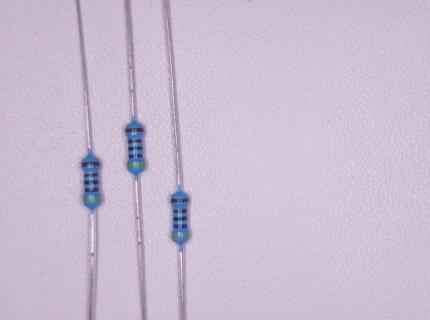Black band: (128, 146, 143, 151), (84, 180, 99, 185), (173, 216, 187, 221)
Brown band: (82, 161, 101, 167), (171, 198, 189, 203), (125, 128, 144, 132), (173, 208, 187, 213), (128, 139, 143, 143), (84, 173, 99, 177)
Violet band: (129, 153, 143, 159), (173, 224, 188, 229), (85, 187, 99, 192)
Yellow band: (172, 234, 189, 239), (83, 198, 102, 202), (127, 164, 145, 168)
